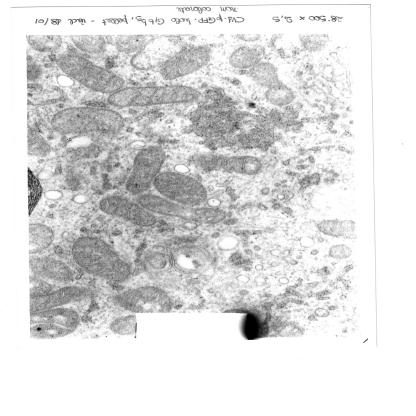mitochondria: (68, 235, 131, 283), (57, 52, 124, 92), (46, 106, 128, 138), (154, 43, 224, 80), (122, 142, 168, 194), (96, 193, 160, 230), (152, 171, 211, 206), (106, 85, 202, 106), (181, 152, 263, 176), (228, 42, 266, 70), (248, 66, 281, 89), (142, 250, 168, 271), (323, 242, 351, 261)
